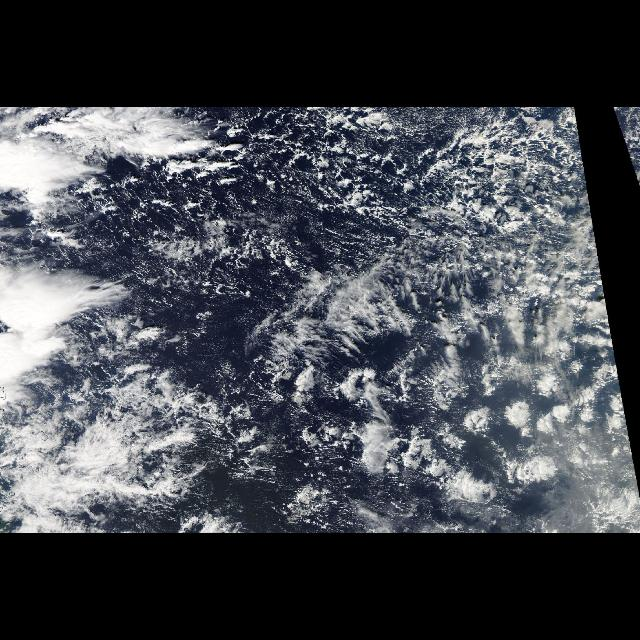Flower: (418, 350, 634, 532)
Gravel: (78, 108, 516, 440)
